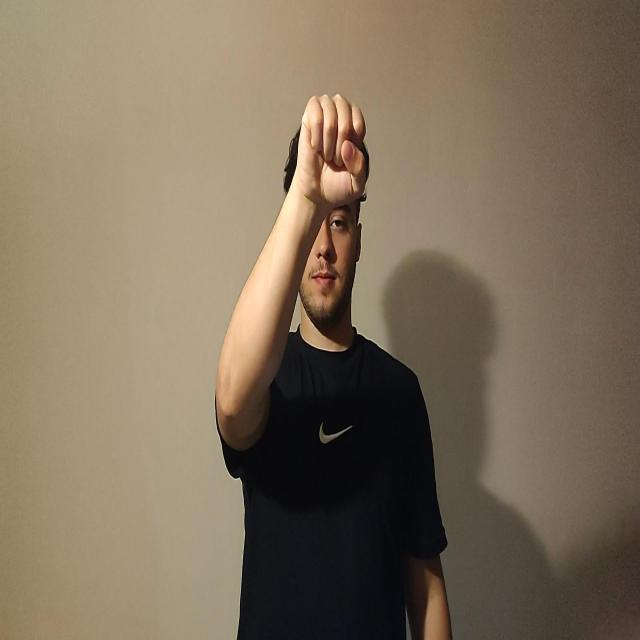yes: (295, 92, 369, 208)
